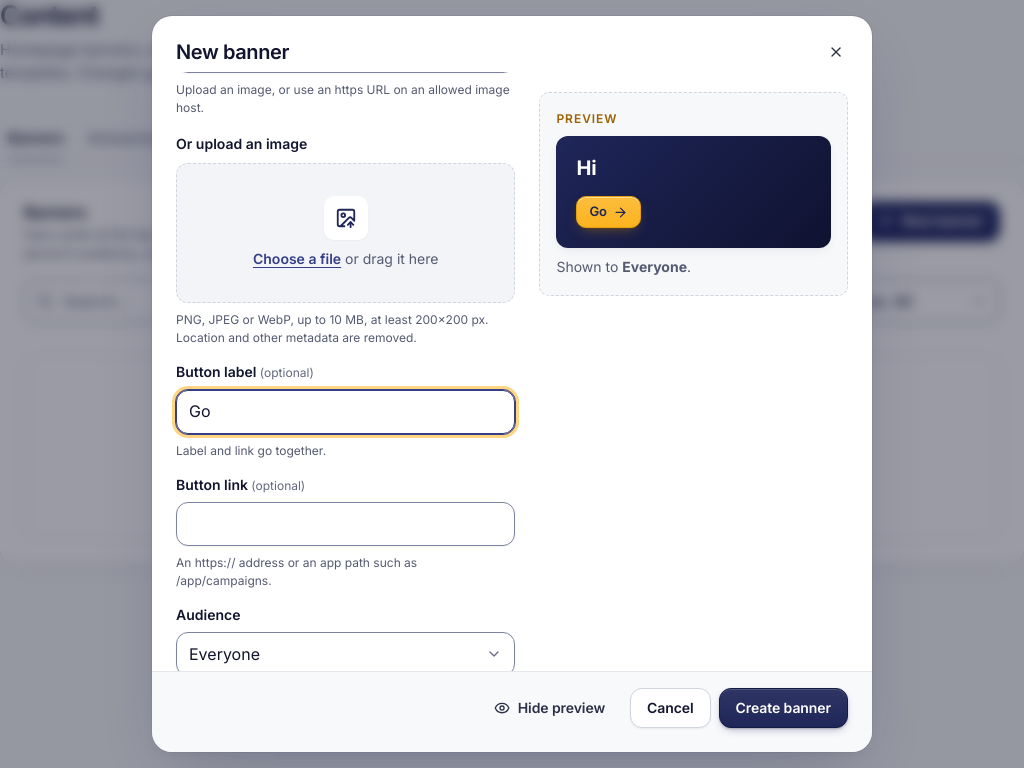
Scenario: Content — banners › rejects unsafe links before calling the API
Earlier steps of the test are not shown.
(page scrolled)
Step 1. Type "javascript:alert(1)" into the field labelled "Button link (optional)" → (346, 524), box x1=176 y1=502 x2=515 y2=546
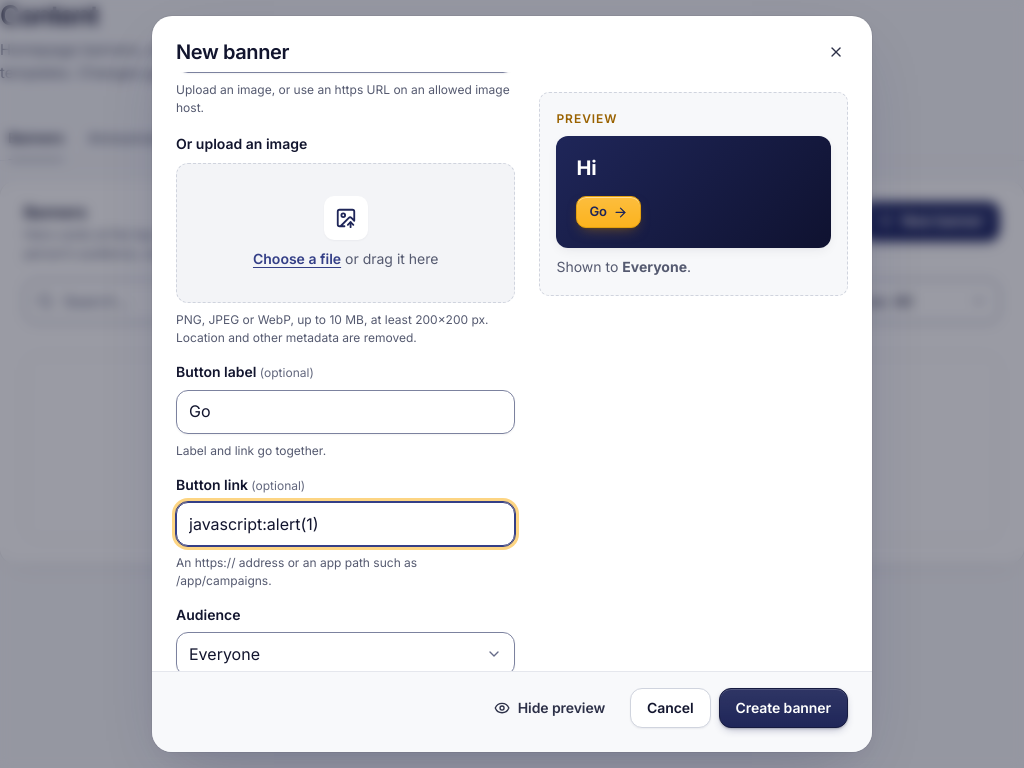
Step 2. Click the button "Create banner" → (783, 708), box x1=719 y1=688 x2=848 y2=728
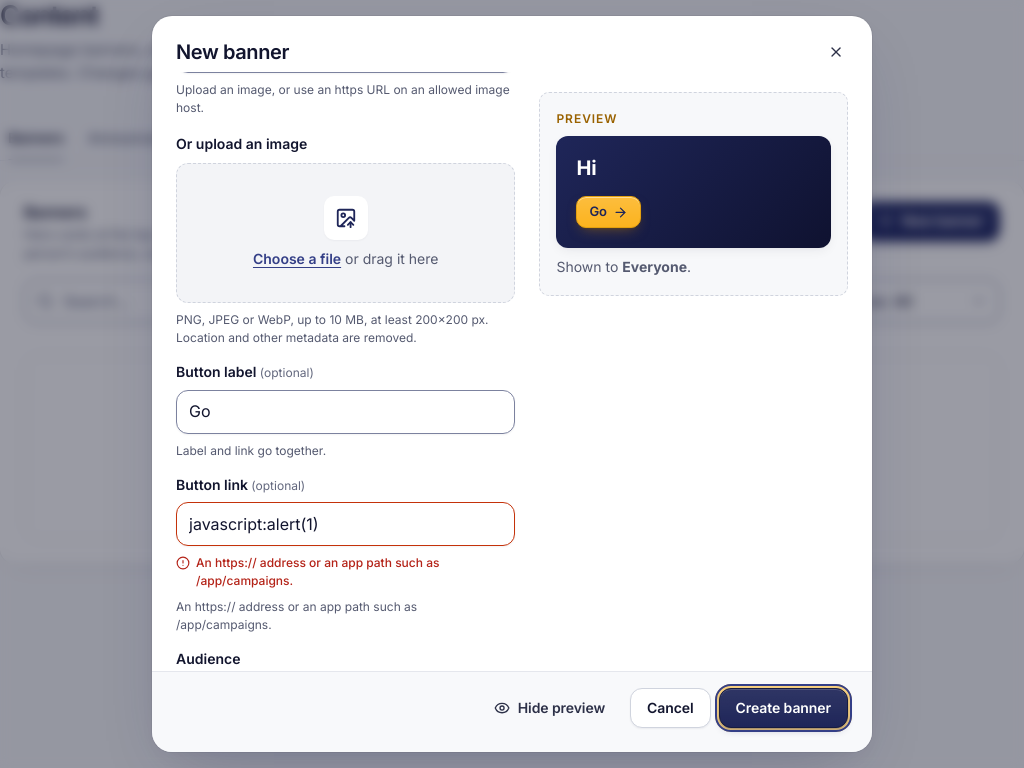
Expected: the field labelled "Button link (optional)" is marked as invalid, x1=176 y1=502 x2=515 y2=546
